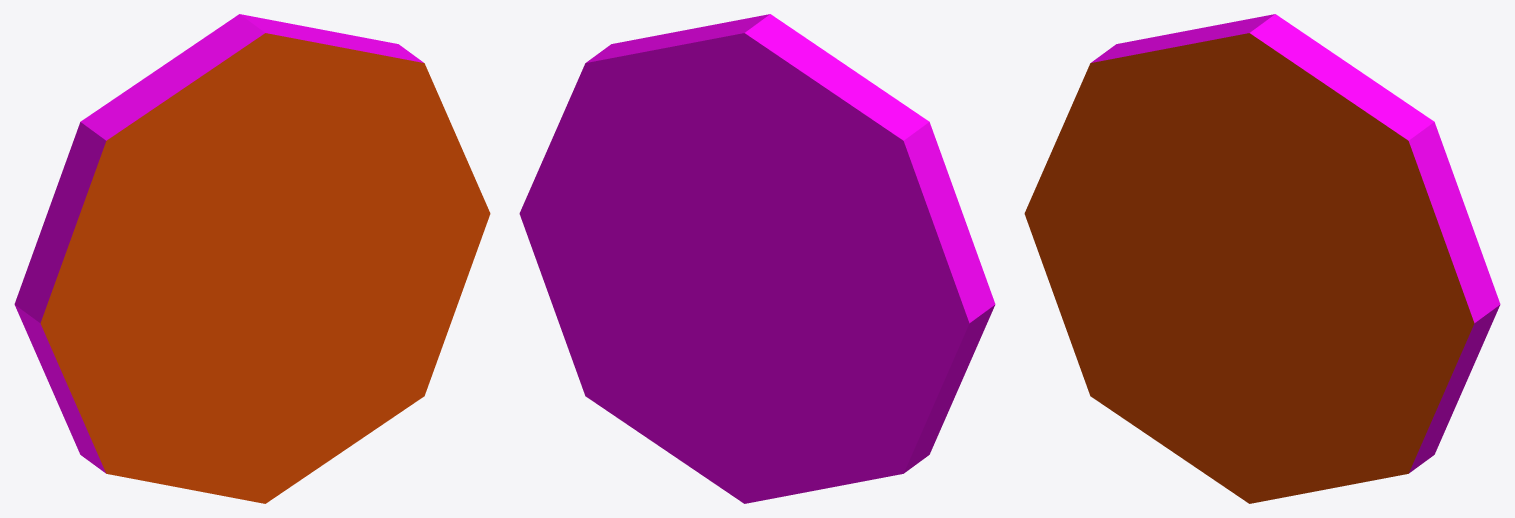
Rendered from saw.fbx.
3 renders of one model, left to right at view 1: azimuth 30°, elevation 25°; view 2: azimuth 150°, elevation 25°; view 3: azimuth 330°, elevation 25°, orthographic.
Visible parts, largest first — view 1: Cylinder.009; view 2: Cylinder.009; view 3: Cylinder.009.
Boxes of the visible parts, x1,y1,x2,y2 form: Cylinder.009: (14, 14, 490, 503); Cylinder.009: (519, 14, 995, 503); Cylinder.009: (1024, 14, 1500, 503).
Bounding box in the file's own units: 200 × 200 × 20.
